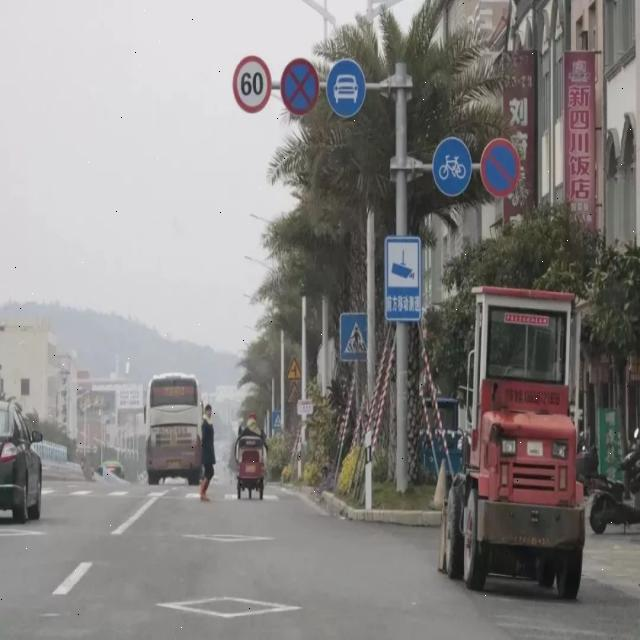speed limit 60: (231, 54, 272, 115)
